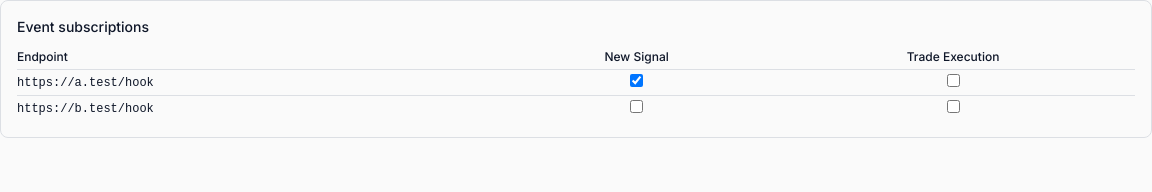
WebhookSubscriptionMatrix › shows failure feedback when an update fails
Step 1. Click the checkbox named "New Signal events for https://a.test/hook" → coordinates (637, 80), box [630,74,643,87]
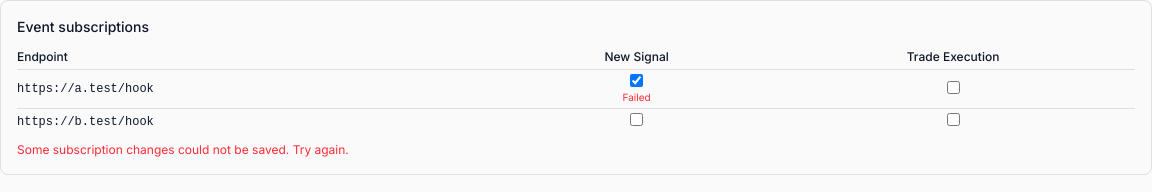
expect the text "Failed" is shown: met, box [622,91,651,103]
expect the message shows "could not be saved": met, box [17,142,349,157]
